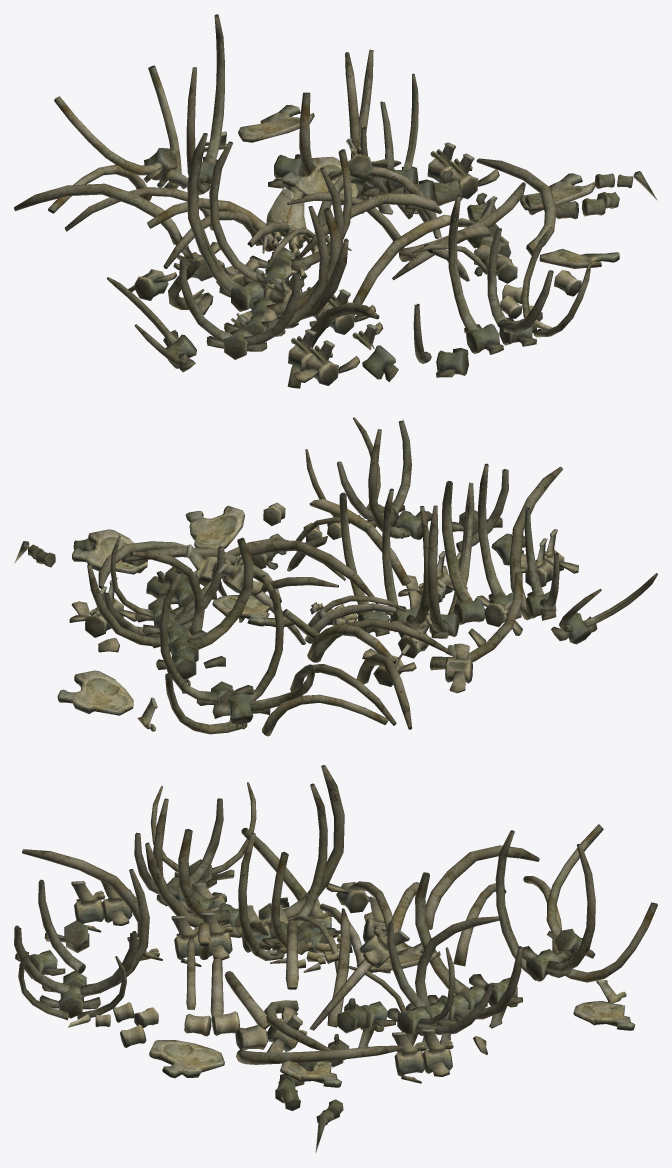
File: bone_whale_lump00.fbx
The picture shows the model from 3 angles, top to bottom: view 1: azimuth 30°, elevation 25°; view 2: azimuth 150°, elevation 25°; view 3: azimuth 270°, elevation 25°; orthographic projection. The views are drawn at different scales.
Visible parts, largest first — view 1: bone_whale_lump00; view 2: bone_whale_lump00; view 3: bone_whale_lump00.
Boxes of the visible parts, bbox=[...] form: bone_whale_lump00: bbox=[14, 14, 657, 388]; bone_whale_lump00: bbox=[14, 417, 657, 736]; bone_whale_lump00: bbox=[14, 765, 657, 1152].
Size of the model in its own units: 57.16 by 16.99 by 53.71.
